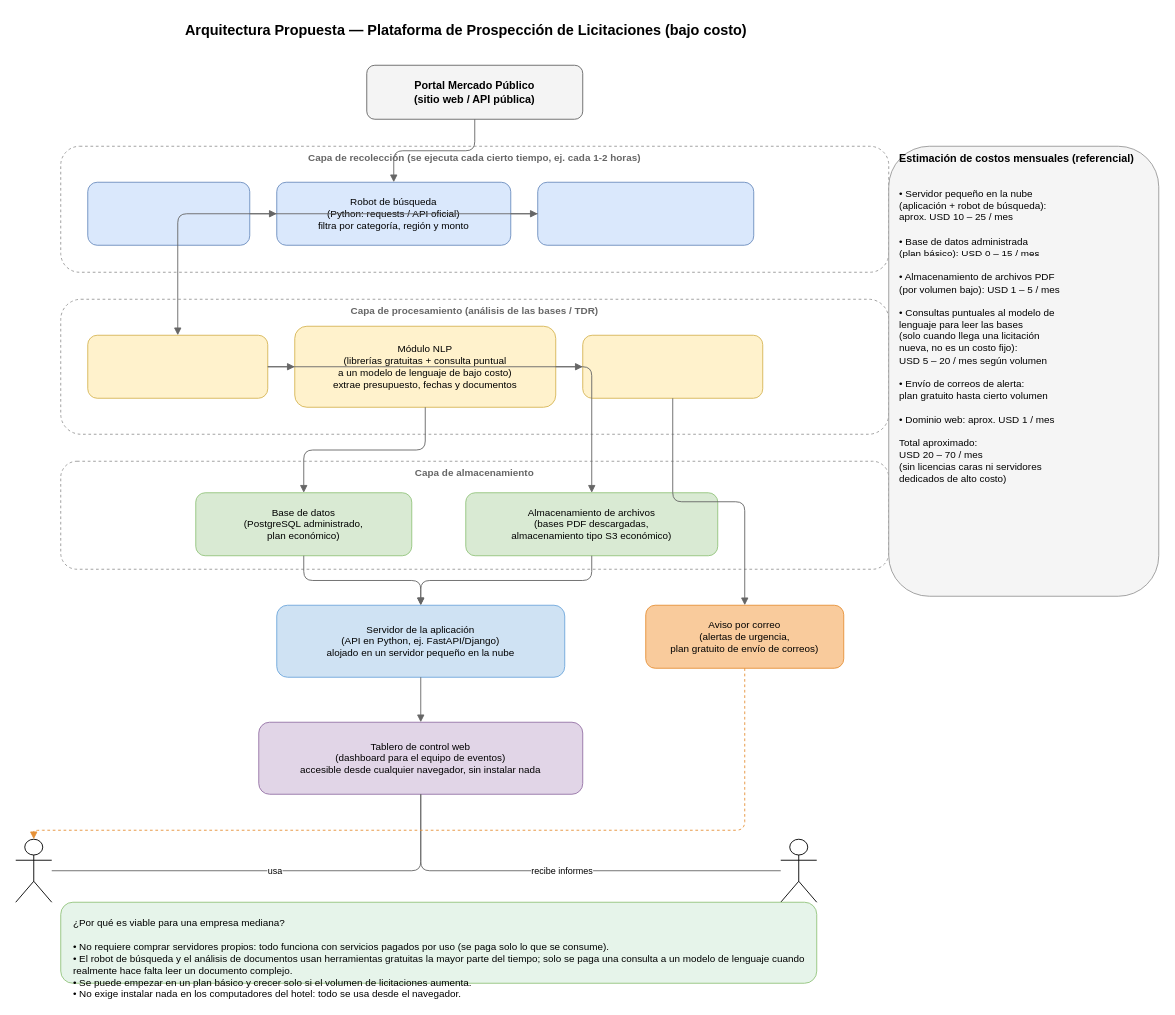
This 1175x1015 diagram has some shape labels left out. The shapes that lost their labels are listed below. From the top down, each one's centre as x and y in pixels, then its label:
pixel 168 213: Tarea programada (cron / scheduler)
pixel 645 213: Validador técnico (entra al detalle y compara ID vs. archivos adjuntos)
pixel 177 366: Extractor de texto (lectura de PDF)
pixel 672 366: Comparador de costos base del hotel (genera alerta si no calza)
pixel 33 870: Equipo de Eventos
pixel 798 870: Gerencia / Finanzas
